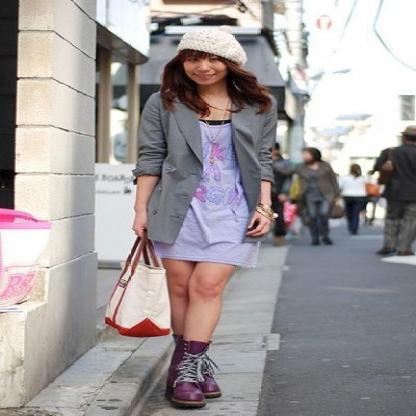bag: (105, 227, 171, 337)
dress: (148, 108, 259, 267)
hat: (166, 26, 246, 64)
jacket: (132, 92, 285, 239)
shoe: (162, 333, 220, 410)
